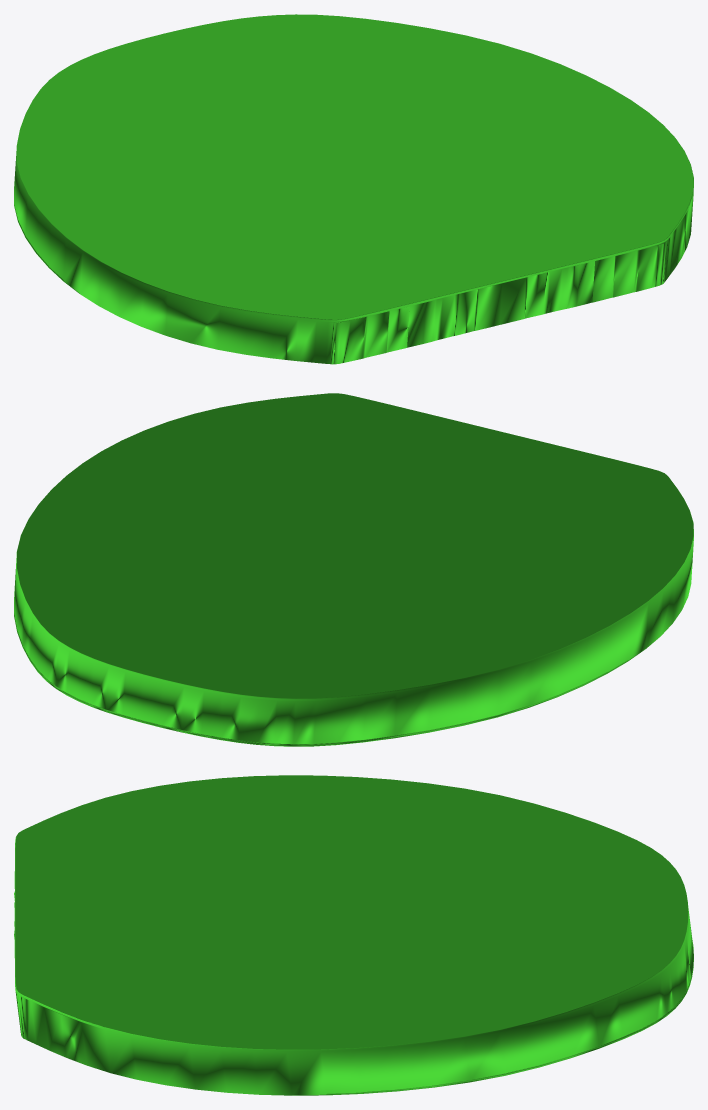
File: tesst.glb
3 renders of one model, top to bottom at view 1: azimuth 30°, elevation 25°; view 2: azimuth 150°, elevation 25°; view 3: azimuth 270°, elevation 25°, orthographic.
Visible parts, largest first — view 1: 10519_pingpong_paddle.026; view 2: 10519_pingpong_paddle.026; view 3: 10519_pingpong_paddle.026.
Boxes of the visible parts, x1,y1,x2,y2 form: 10519_pingpong_paddle.026: [14, 14, 693, 364]; 10519_pingpong_paddle.026: [14, 393, 693, 746]; 10519_pingpong_paddle.026: [14, 775, 693, 1095].
Bounding box in the file's own units: 1.64 × 0.1274 × 1.71.
